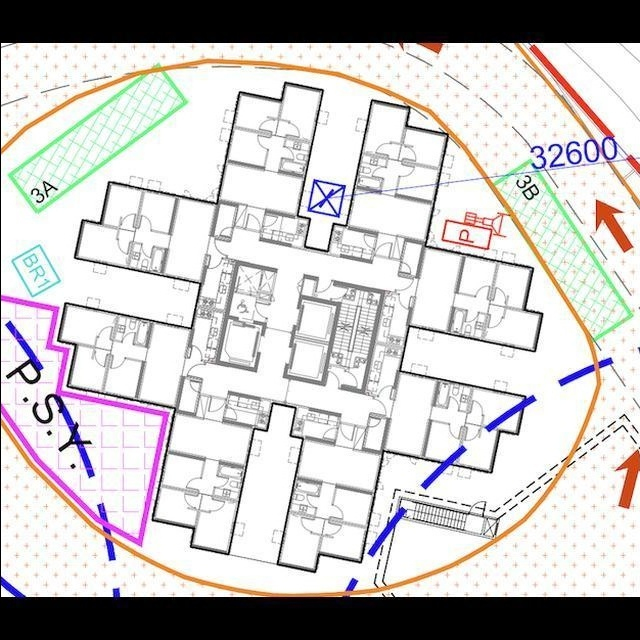tower_crane: (305, 175, 348, 223)
